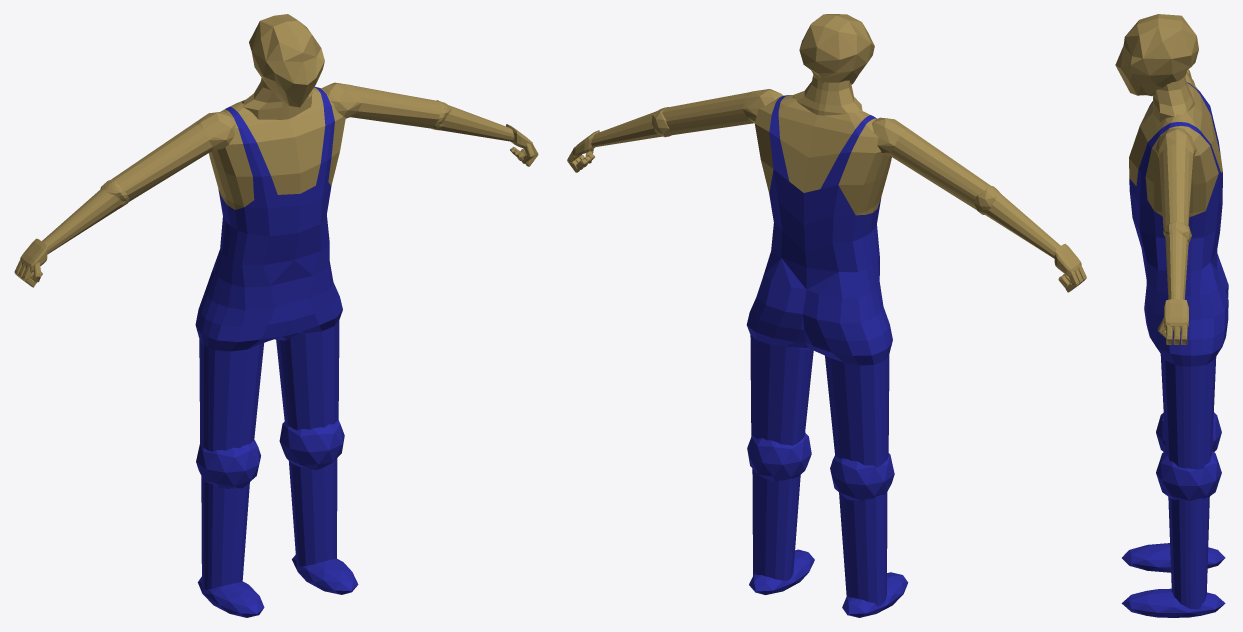
Rendered from player2.obj.
The picture shows the model from 3 angles, left to right: view 1: azimuth 30°, elevation 25°; view 2: azimuth 150°, elevation 25°; view 3: azimuth 270°, elevation 25°; orthographic projection.
Visible parts, largest first — view 1: Icosphere.001_Icosphere.051; view 2: Icosphere.001_Icosphere.051; view 3: Icosphere.001_Icosphere.051.
Part boxes in pixels (x1,y1,x2,y2): Icosphere.001_Icosphere.051: (14,14,538,617); Icosphere.001_Icosphere.051: (567,14,1086,617); Icosphere.001_Icosphere.051: (1115,14,1228,617).
Size of the model in its own units: 27.78 by 29.89 by 5.35.
